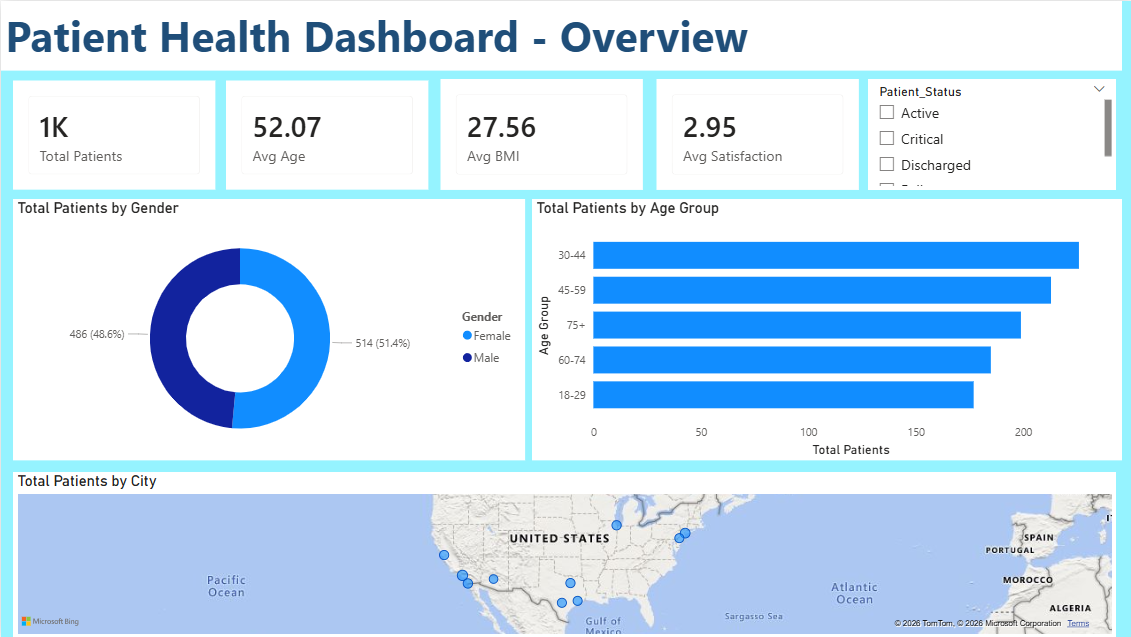

The dashboard page shown, as its layout file describes it:
{"tool":"powerbi","page":{"name":"Patient Overview","canvas":[1280,720],"ordinal":0},"visuals":[{"type":"textbox","box":[0,0,1266.7,78.3],"z":0},{"type":"cardVisual","fields":{"Data":["Patient Data.Total Patients"]},"box":[13.3,90,228.3,123.3],"z":1000},{"type":"cardVisual","fields":{"Data":["Patient Data.Avg Age"]},"box":[255,90,228.3,123.3],"z":2000},{"type":"cardVisual","fields":{"Data":["Patient Data.Avg BMI"]},"box":[496.7,88.3,228.3,125],"z":3000},{"type":"cardVisual","fields":{"Data":["Patient Data.Avg Satisfaction"]},"box":[740,88.3,228.3,125],"z":4000},{"type":"donutChart","fields":{"Category":["Patient Data.Gender"],"Y":["Patient Data.Total Patients","select"]},"box":[13.3,223.3,578.3,295],"z":5000},{"type":"clusteredBarChart","fields":{"Category":["Patient Data.Age Group"],"Y":["Patient Data.Total Patients"]},"box":[600,223.3,666.7,295],"z":6000},{"type":"slicer","fields":{"Values":["Patient Data.Patient_Status"]},"box":[980,88.3,280,125],"z":7000},{"type":"map","fields":{"Category":["Patient Data.City"],"Size":["Patient Data.Total Patients"]},"box":[14,532,1246,188],"z":8000}]}

Visuals, with their boxes in screenshot pixels (x1, y1, x2, y2), scaled from the page's 1280x720 canvas onto the 1131x637 screenshot:
textbox: rect(0, 0, 1119, 69)
cardVisual - Patient Data.Total Patients: rect(12, 80, 213, 189)
cardVisual - Patient Data.Avg Age: rect(225, 80, 427, 189)
cardVisual - Patient Data.Avg BMI: rect(439, 78, 641, 189)
cardVisual - Patient Data.Avg Satisfaction: rect(654, 78, 856, 189)
donutChart - Patient Data.Gender x Patient Data.Total Patients: rect(12, 198, 523, 459)
clusteredBarChart - Patient Data.Age Group x Patient Data.Total Patients: rect(530, 198, 1119, 459)
slicer - Patient Data.Patient_Status: rect(866, 78, 1113, 189)
map - Patient Data.City x Patient Data.Total Patients: rect(12, 471, 1113, 636)
